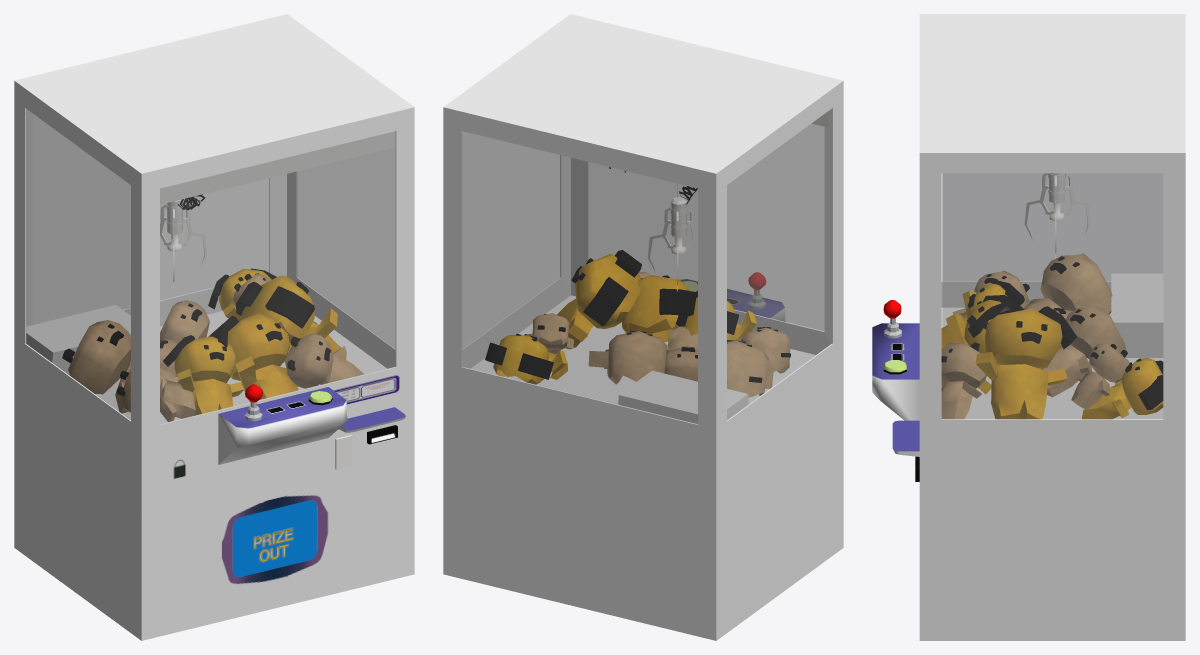
The model's file is LC_3054_Doll_Drawing_Machine_LOD1.FBX.
The picture shows the model from 3 angles, left to right: view 1: azimuth 30°, elevation 25°; view 2: azimuth 150°, elevation 25°; view 3: azimuth 270°, elevation 25°; orthographic projection. The views are drawn at different scales.
Visible parts, largest first — view 1: LC_3054_Doll_Drawing_Machine_LOD1; view 2: LC_3054_Doll_Drawing_Machine_LOD1; view 3: LC_3054_Doll_Drawing_Machine_LOD1.
Boxes of the visible parts, <box> form: LC_3054_Doll_Drawing_Machine_LOD1: <box>14,14,414,640</box>; LC_3054_Doll_Drawing_Machine_LOD1: <box>443,14,843,640</box>; LC_3054_Doll_Drawing_Machine_LOD1: <box>872,14,1185,640</box>.
Size of the model in its own units: 104 by 170 by 98.91.
Materials: 2 (1 with a texture image).
